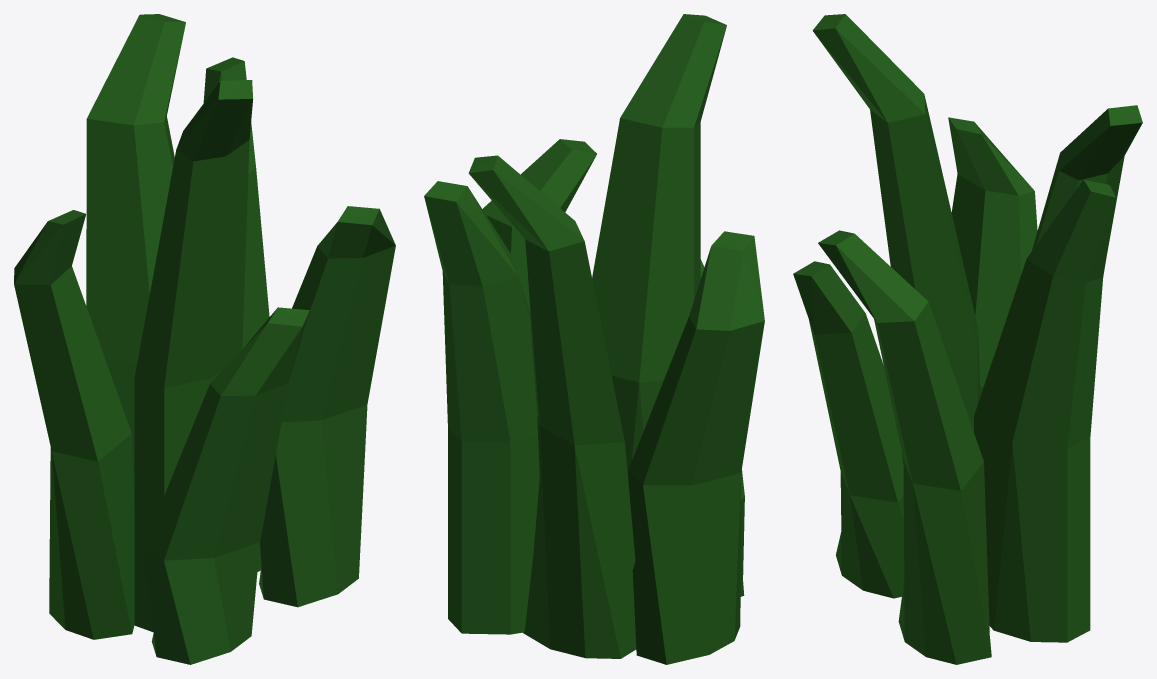
The model's file is herbe.glb.
The picture shows the model from 3 angles, left to right: view 1: azimuth 30°, elevation 25°; view 2: azimuth 150°, elevation 25°; view 3: azimuth 270°, elevation 25°; orthographic projection. The views are drawn at different scales.
Visible parts, largest first — view 1: Cube; view 2: Cube; view 3: Cube.
Boxes of the visible parts, <box> form: Cube: <box>14,14,395,664</box>; Cube: <box>424,14,764,664</box>; Cube: <box>793,14,1142,664</box>.
Bounding box in the file's own units: 2.38 × 3.92 × 2.23.
